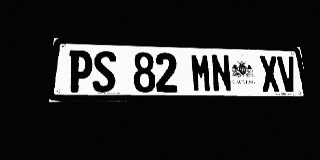2: (155, 52, 177, 92)
8: (134, 52, 156, 92)
M: (190, 53, 212, 92)
N: (210, 54, 232, 92)
P: (67, 50, 93, 92)
S: (92, 51, 116, 92)
V: (277, 56, 299, 92)
X: (259, 55, 281, 92)
